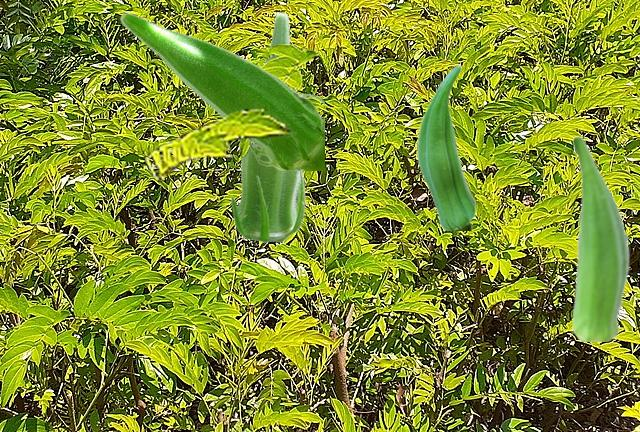okra: (119, 12, 323, 169), (230, 11, 305, 242), (571, 135, 629, 340), (416, 63, 474, 229)
